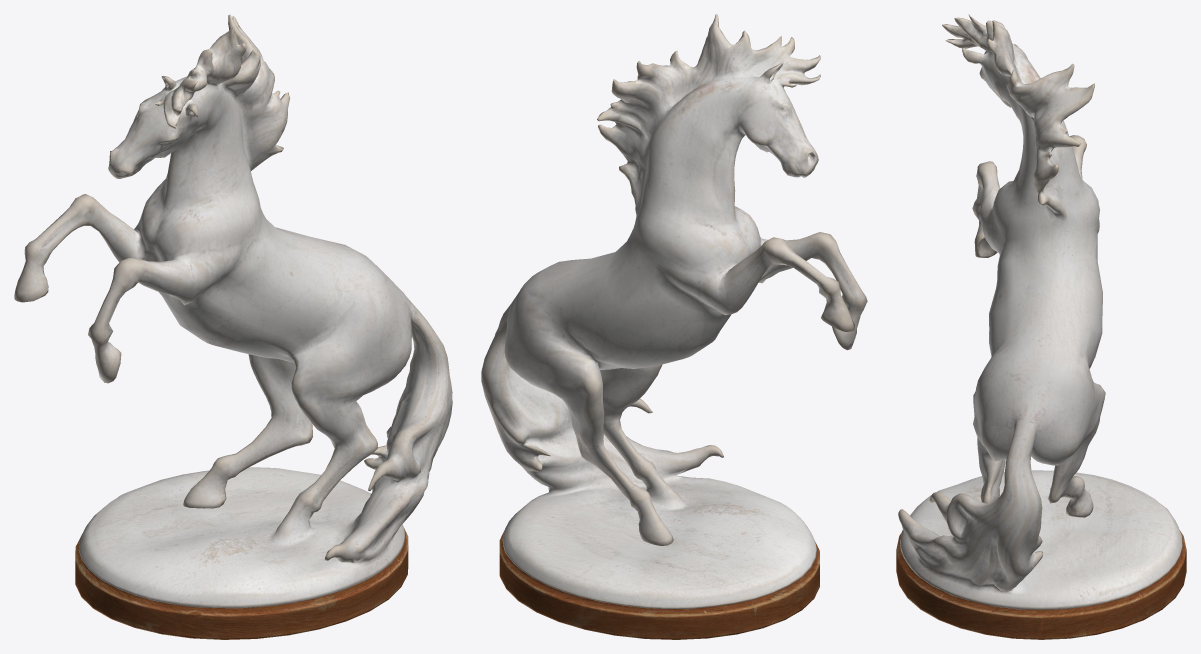
Rendered from horse_statue_01_lod1.glb.
3 views of the same model, side by side, from view 1: azimuth 30°, elevation 25°; view 2: azimuth 150°, elevation 25°; view 3: azimuth 270°, elevation 25° (orthographic). The views are drawn at different scales.
Visible parts, largest first — view 1: horse_statue_01; view 2: horse_statue_01; view 3: horse_statue_01.
Part boxes in pixels (x1,y1,x2,y2): horse_statue_01: [14, 14, 452, 639]; horse_statue_01: [481, 14, 867, 639]; horse_statue_01: [896, 14, 1186, 639].
Size of the model in its own units: 0.1638 by 0.2199 by 0.1078.
2 materials, 2 textured.
